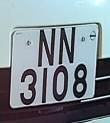0: (49, 65, 71, 105)
1: (38, 67, 52, 105)
3: (15, 68, 38, 106)
8: (69, 65, 91, 101)
N: (37, 25, 56, 71), (58, 24, 77, 67)
